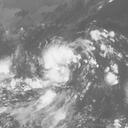cyclone: (39, 40, 73, 87)
